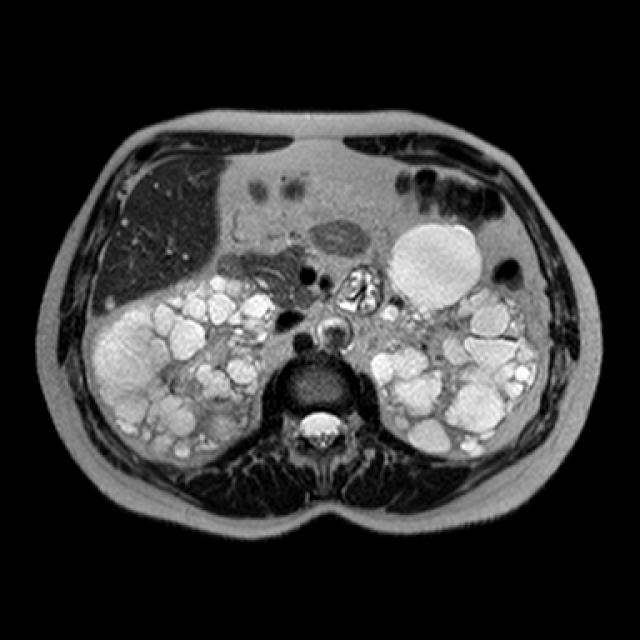sag: (88, 275, 277, 464)
sol: (368, 222, 540, 456)
